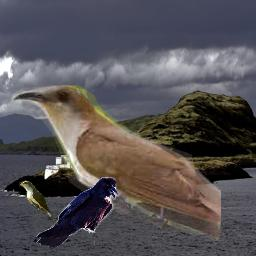Crow: (36, 177, 118, 247)
Cuckoo: (8, 85, 221, 242), (19, 180, 58, 225)
